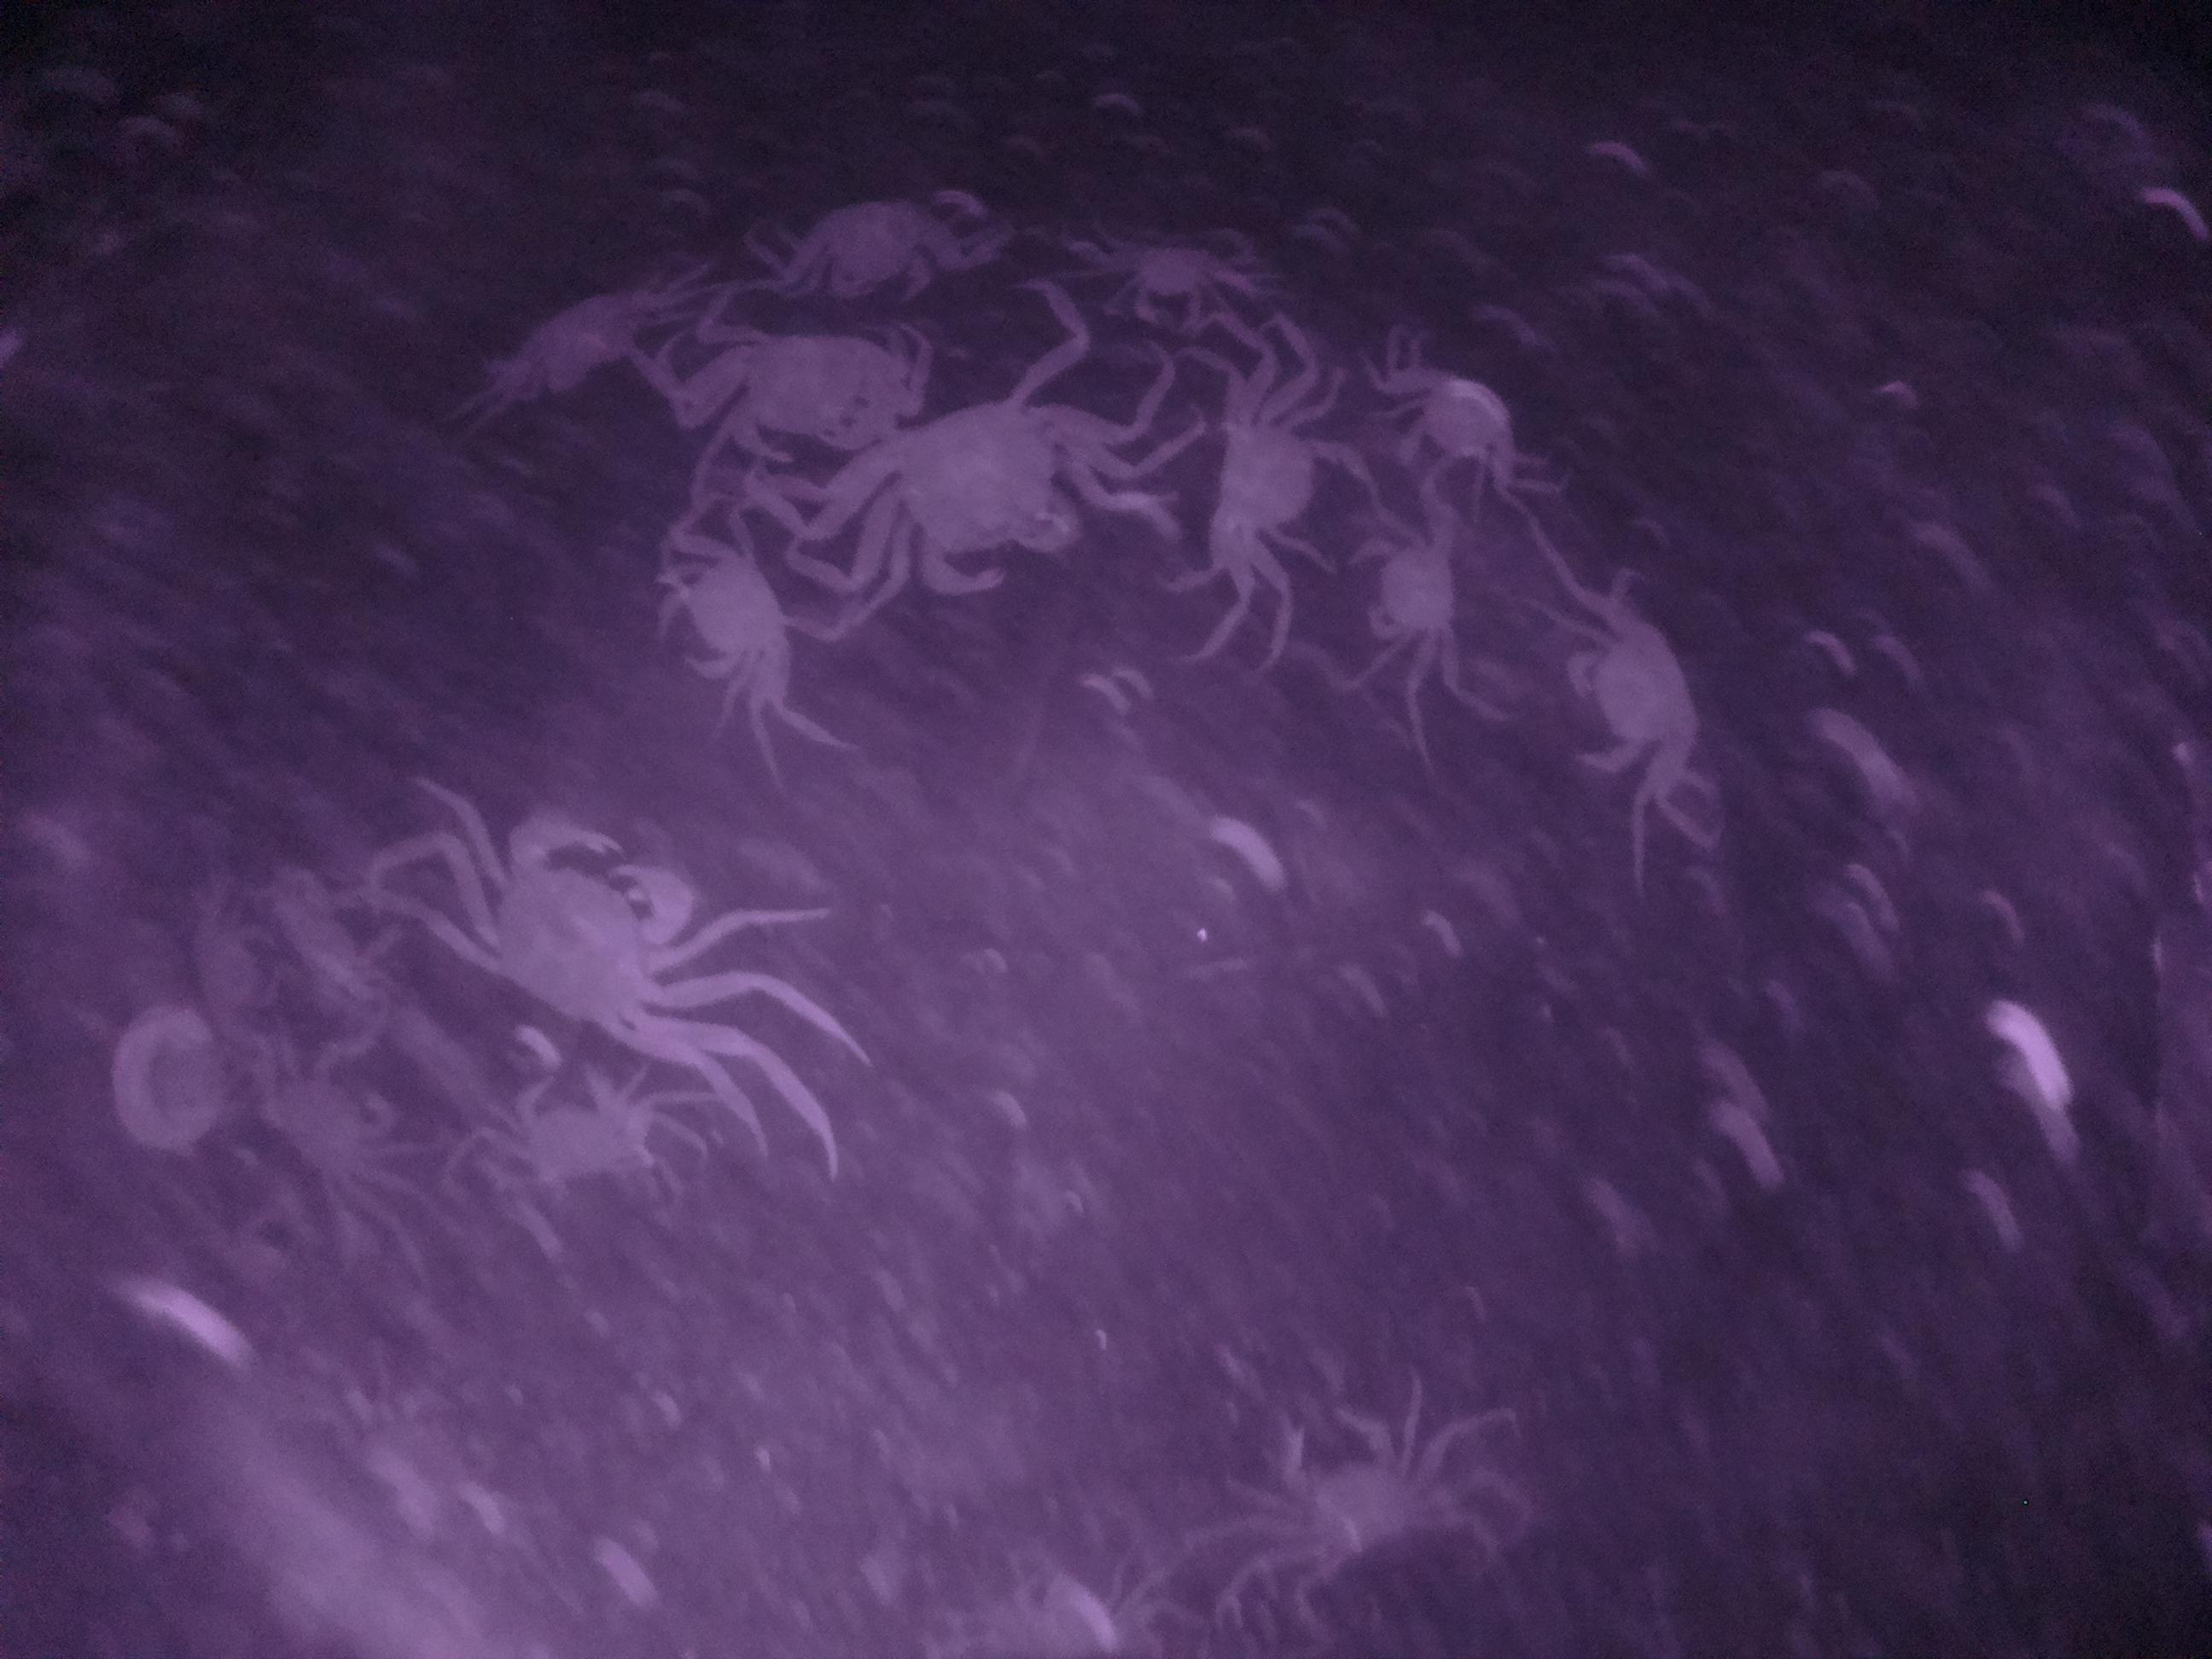Crab: (864, 371, 1123, 605), (460, 821, 711, 1035), (1548, 592, 1726, 814), (472, 1061, 681, 1209), (1193, 397, 1362, 580), (639, 525, 801, 708), (763, 179, 968, 310), (1348, 504, 1479, 678), (1395, 352, 1547, 497), (1103, 216, 1237, 336)
